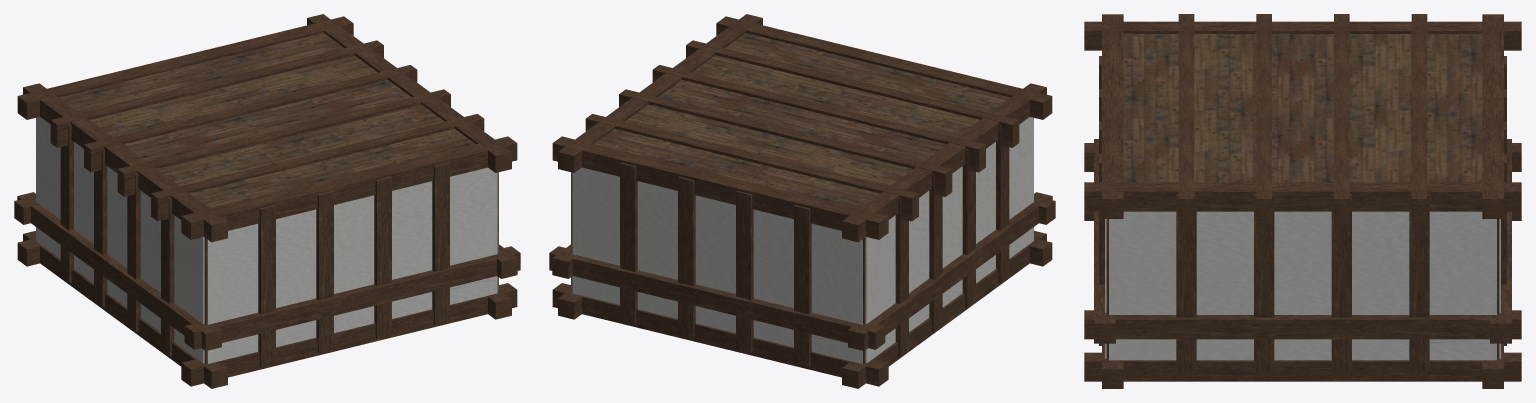
File: Room.glb
The picture shows the model from 3 angles, left to right: view 1: azimuth 30°, elevation 25°; view 2: azimuth 150°, elevation 25°; view 3: azimuth 270°, elevation 25°; orthographic projection. The views are drawn at different scales.
Parts seen in each view (by area): view 1: Room; view 2: Room; view 3: Room.
Part boxes in pixels (<box>): Room: <box>14,14,520,388</box>; Room: <box>549,14,1055,388</box>; Room: <box>1084,14,1521,388</box>.
Size of the model in its own units: 11.27 by 5.41 by 11.27.
Materials: 3 (3 with a texture image).
